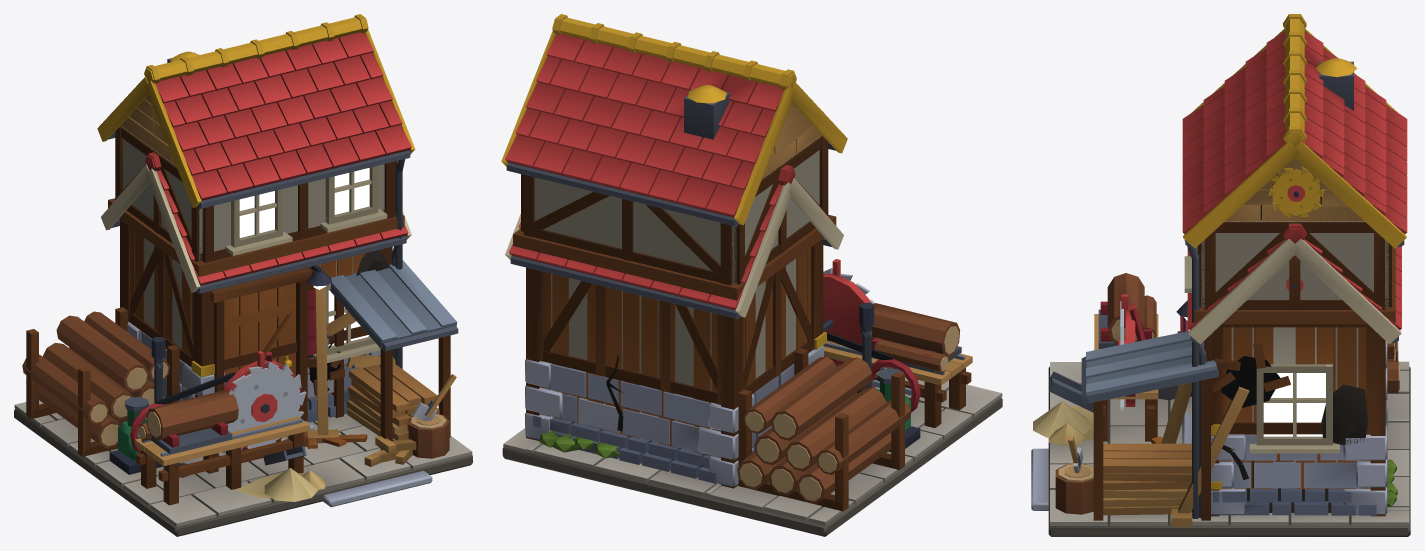
Rendered from b_saege.glb.
The picture shows the model from 3 angles, left to right: view 1: azimuth 30°, elevation 25°; view 2: azimuth 150°, elevation 25°; view 3: azimuth 270°, elevation 25°; orthographic projection. The views are drawn at different scales.
Parts seen in each view (by area): view 1: lv7_stock, body, lv4_anbau, lv4_haus, lvmax6_dach, lvmax3_haus, fill3_logs, fill2_logs, spin_blade, dmg2_bruch, lv7_win_glow, fill1_logs (+1 smaller); view 2: lv7_stock, body, lv4_haus, lvmax3_haus, lvmax6_dach, fill2_logs, fill3_logs, fill1_logs, lv4_anbau, spin_wheel; view 3: lv7_stock, body, lv4_haus, lv4_anbau, lvmax3_haus, lvmax6_dach, dmg2_bruch, win_glow, dmg1_spuren, fill1_logs.
Part boxes in pixels (x1,y1,x2,y2): lv7_stock: (97, 14, 415, 377); body: (14, 265, 472, 536); lv4_anbau: (138, 260, 458, 449); lv4_haus: (123, 223, 386, 400); lvmax6_dach: (101, 152, 411, 359); lvmax3_haus: (120, 220, 392, 398); fill3_logs: (56, 311, 169, 392); fill2_logs: (22, 343, 154, 424); spin_blade: (224, 361, 306, 450); dmg2_bruch: (283, 287, 395, 448); lv7_win_glow: (239, 168, 369, 237); fill1_logs: (39, 384, 127, 448); lv7_stock: (501, 14, 847, 349); body: (502, 259, 1002, 536); lv4_haus: (525, 244, 823, 486); lvmax3_haus: (526, 239, 823, 488); lvmax6_dach: (505, 165, 843, 319); fill2_logs: (754, 387, 910, 474); fill3_logs: (743, 356, 871, 440); fill1_logs: (737, 432, 891, 503); lv4_anbau: (874, 339, 948, 372); spin_wheel: (871, 359, 920, 412); lv7_stock: (1182, 14, 1407, 518); body: (1031, 273, 1410, 536); lv4_haus: (1211, 324, 1387, 514); lv4_anbau: (1081, 295, 1218, 520); lvmax3_haus: (1204, 325, 1385, 516); lvmax6_dach: (1187, 223, 1401, 518); dmg2_bruch: (1151, 343, 1290, 526); win_glow: (1263, 373, 1325, 436); dmg1_spuren: (1211, 384, 1368, 480); fill1_logs: (1387, 341, 1399, 393).
Size of the model in its own units: 5.58 by 6.5 by 5.47.
